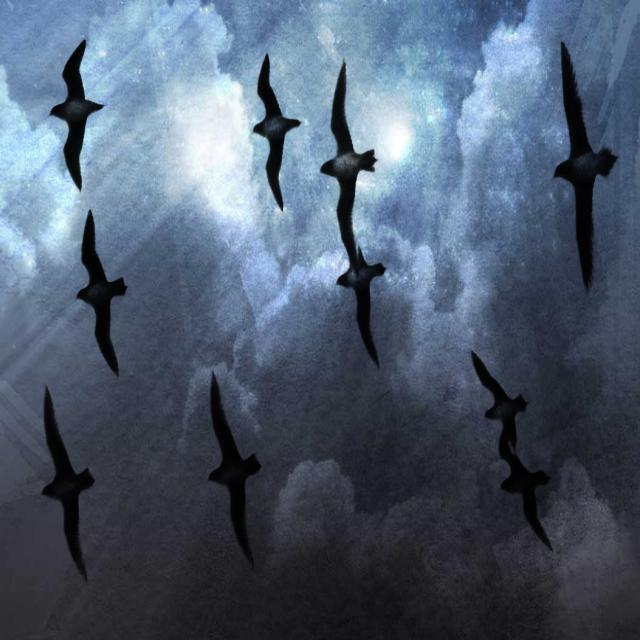bird: (541, 18, 630, 292), (474, 350, 562, 562), (197, 366, 268, 566), (34, 382, 99, 587), (316, 55, 377, 229), (46, 34, 108, 200), (548, 150, 622, 287), (75, 214, 132, 374), (331, 215, 390, 369), (251, 56, 305, 215), (467, 350, 534, 475)
